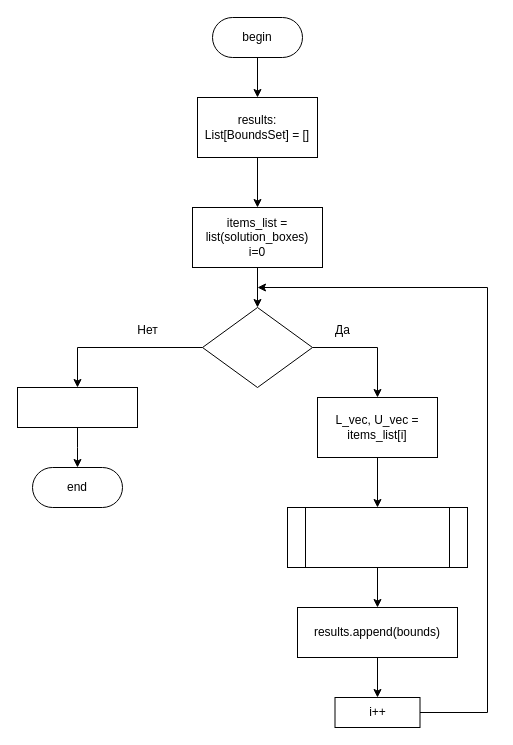
Image size: 513x745. Some labels were removed from this diagram. Each missing label, with the box of its shape:
bounds = self._format_result(L_vec, U_vec, num_rows): (286, 506, 468, 568)
i<len(items_list): (202, 306, 312, 388)
return results: (16, 386, 138, 428)
